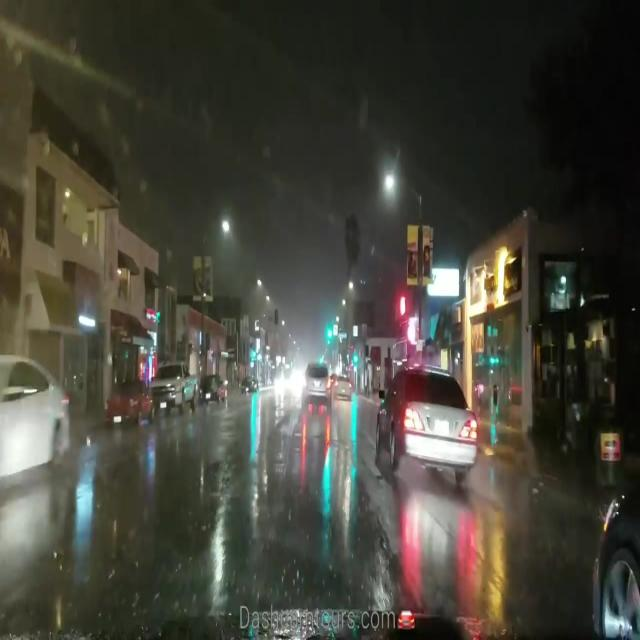Car: (372, 368, 473, 480), (0, 351, 69, 494), (105, 381, 149, 433), (300, 363, 327, 408), (331, 374, 349, 405)
